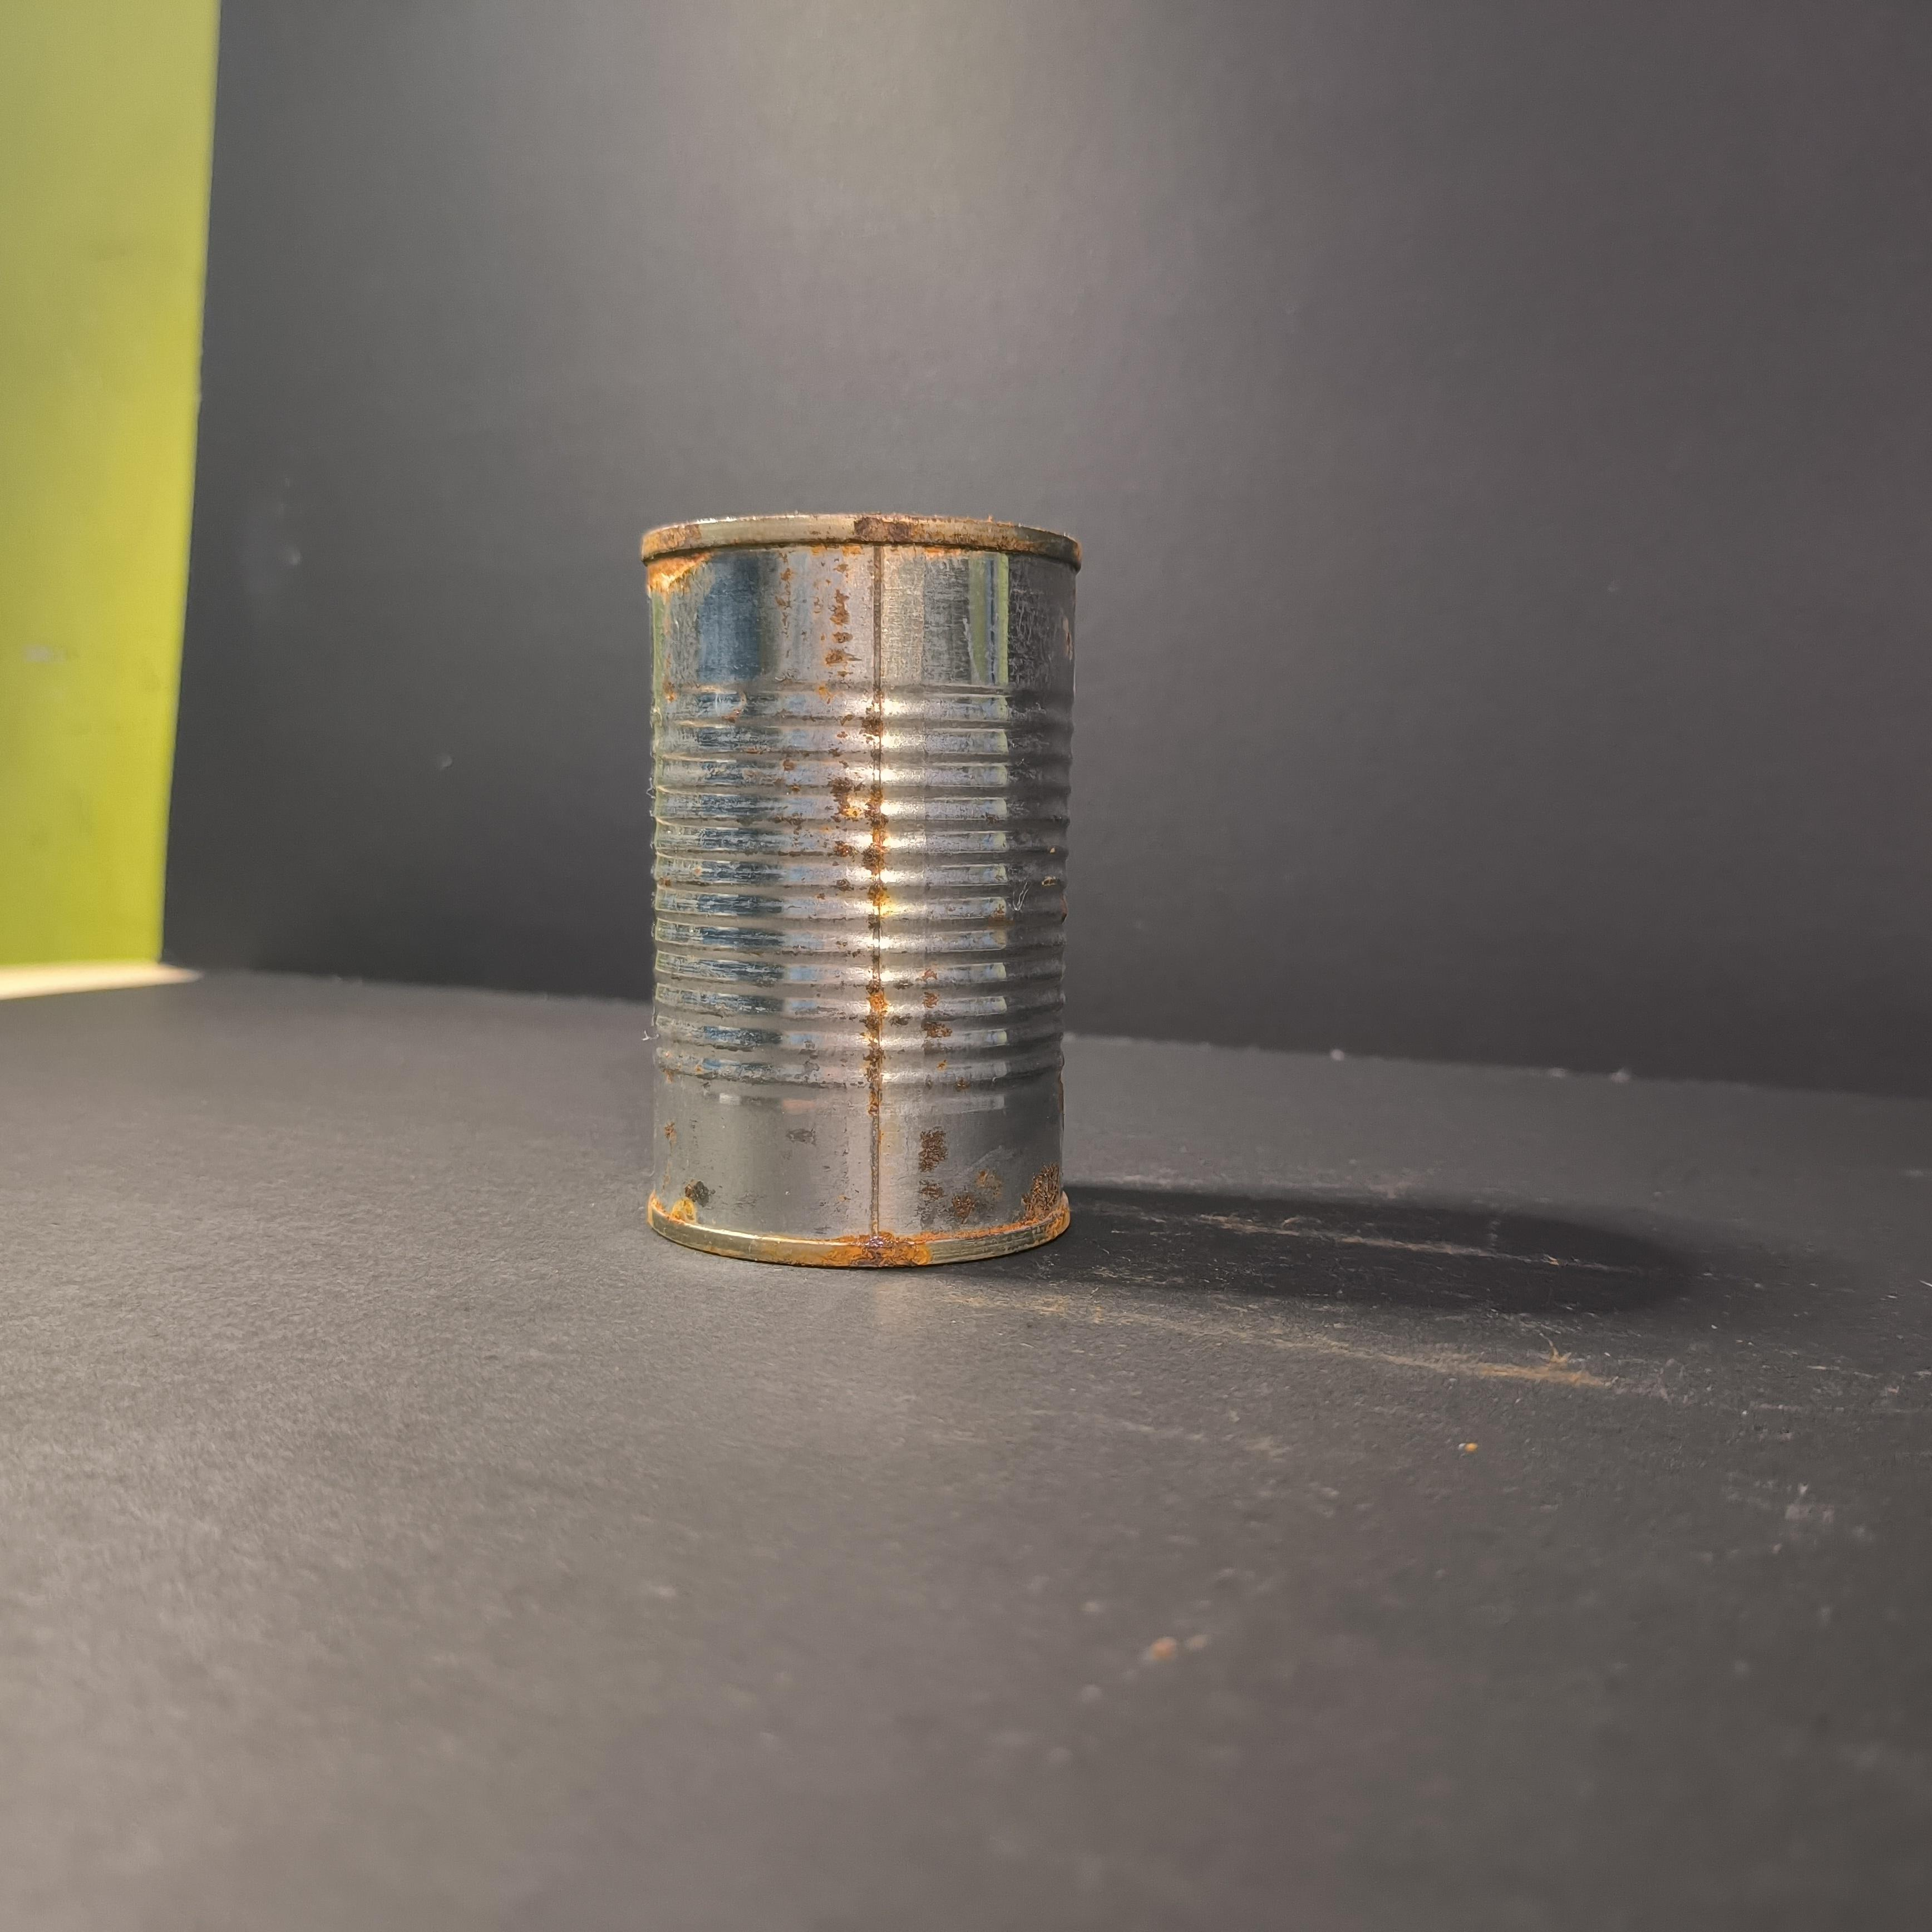Rusted: (635, 485, 1093, 1292)
